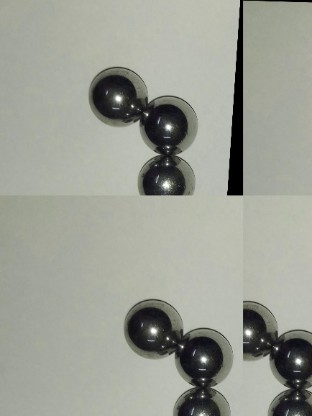ironball: (83, 61, 150, 125), (174, 319, 238, 386), (126, 292, 185, 361), (138, 93, 201, 155), (240, 290, 277, 364), (269, 321, 310, 387), (135, 152, 194, 194), (169, 386, 240, 414), (262, 383, 310, 414)
